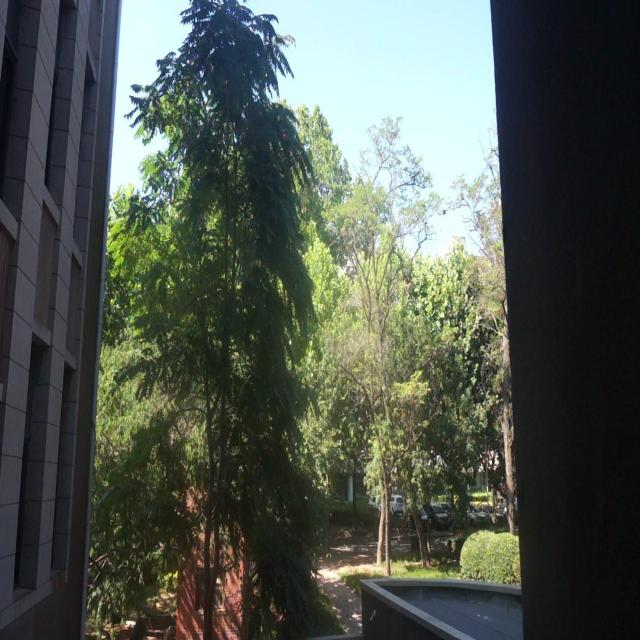UAV: (437, 207, 450, 216)
